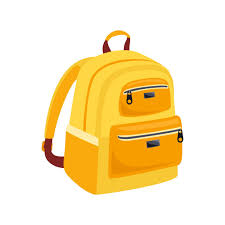bag: (49, 27, 184, 190)
